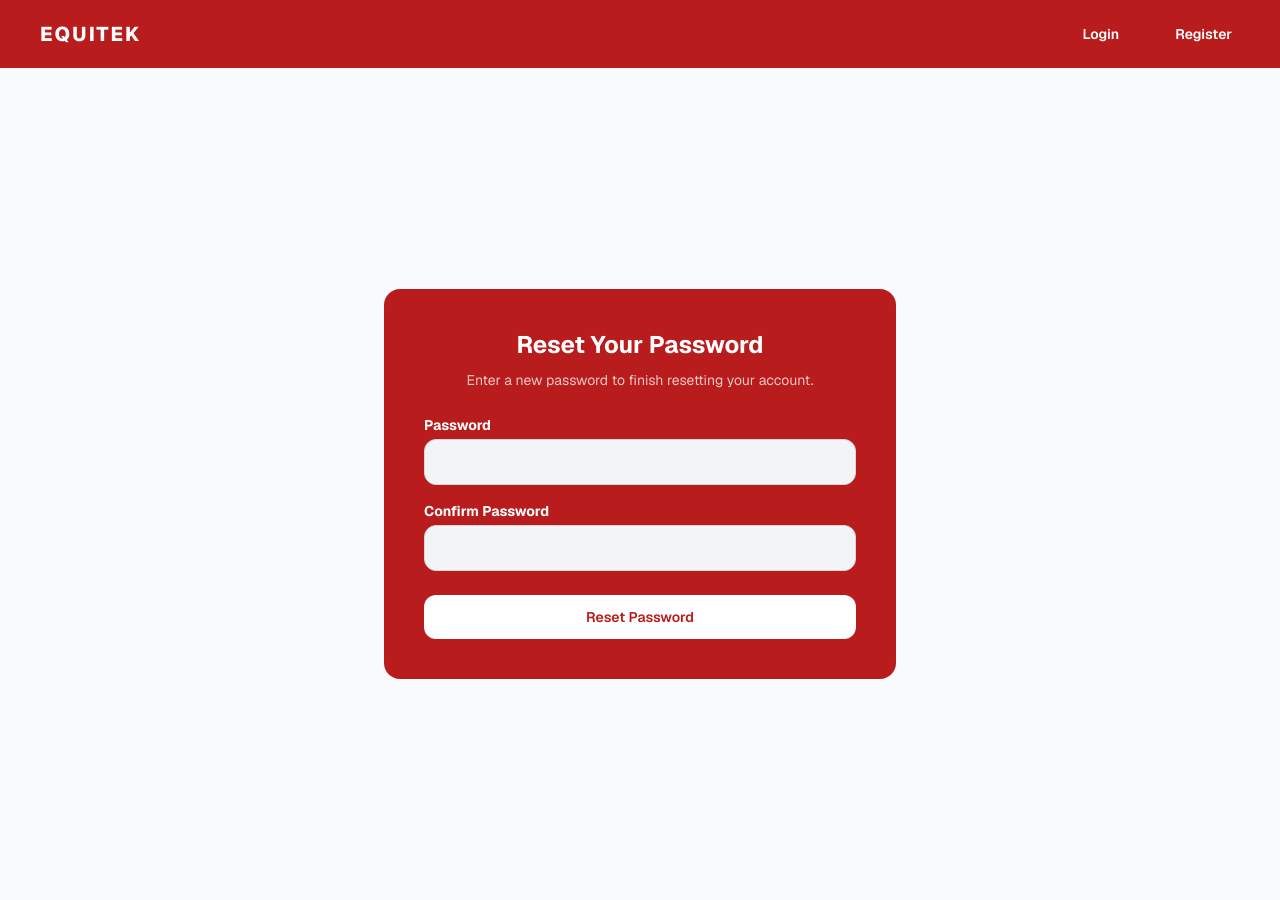
Test: Reset Password Page › shows fallback invalid token message when API error has no message
Type "Strong#123" into the password field labelled "Password" at x=640, y=462, box [424, 439, 856, 485]
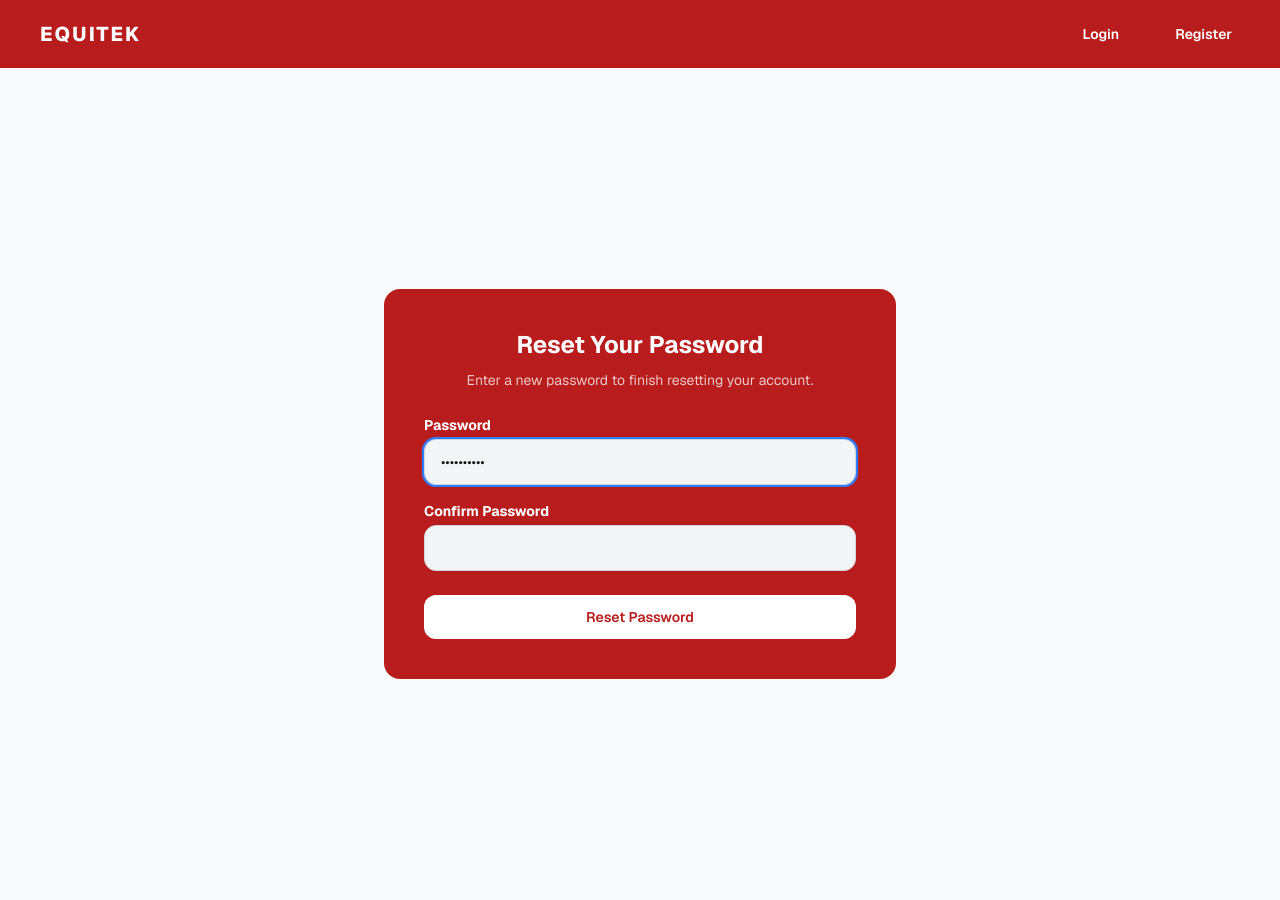
Type "Strong#123" into the password field labelled "Confirm Password" at x=640, y=548, box [424, 525, 856, 571]
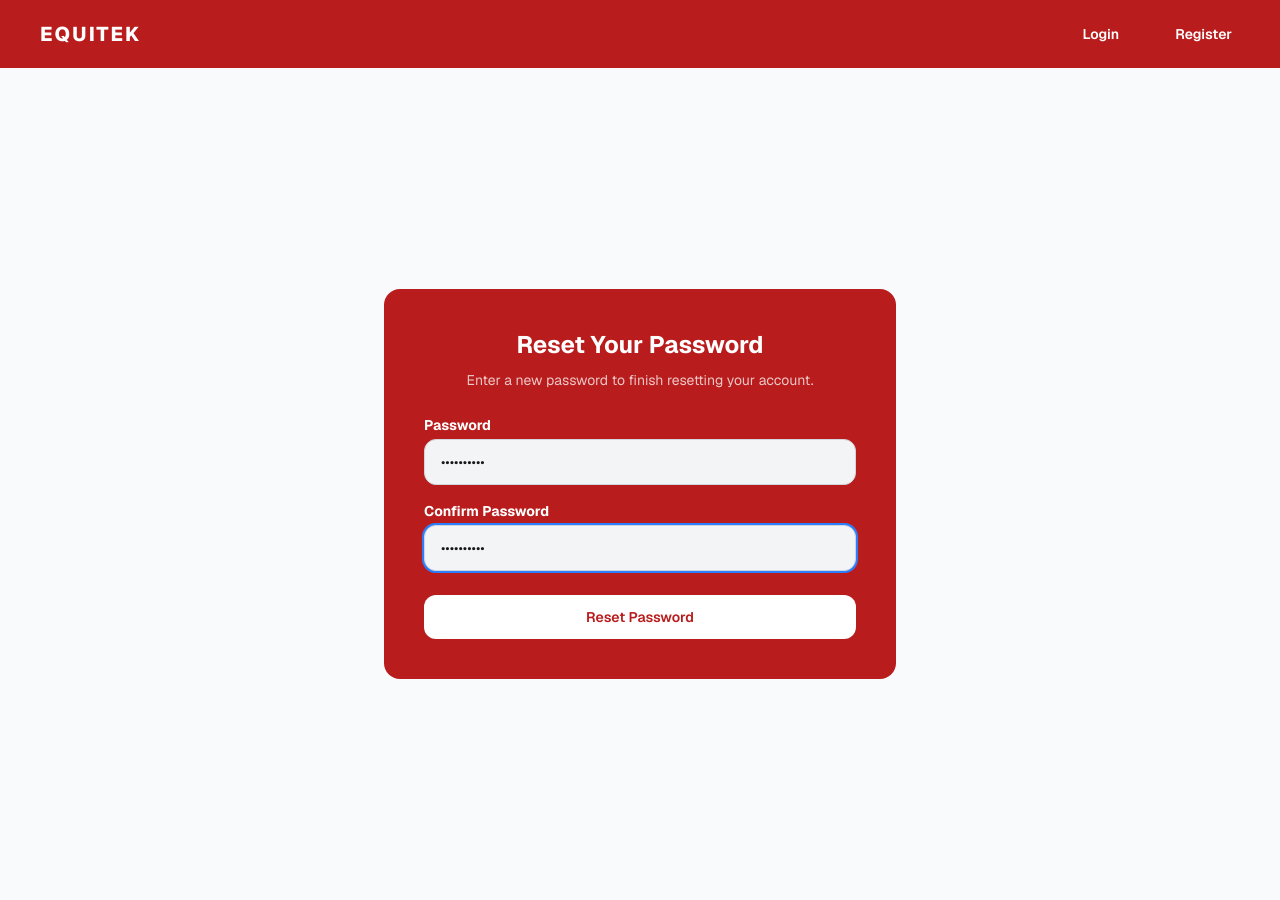
Click the button "Reset Password" at x=640, y=617, box [424, 595, 856, 639]
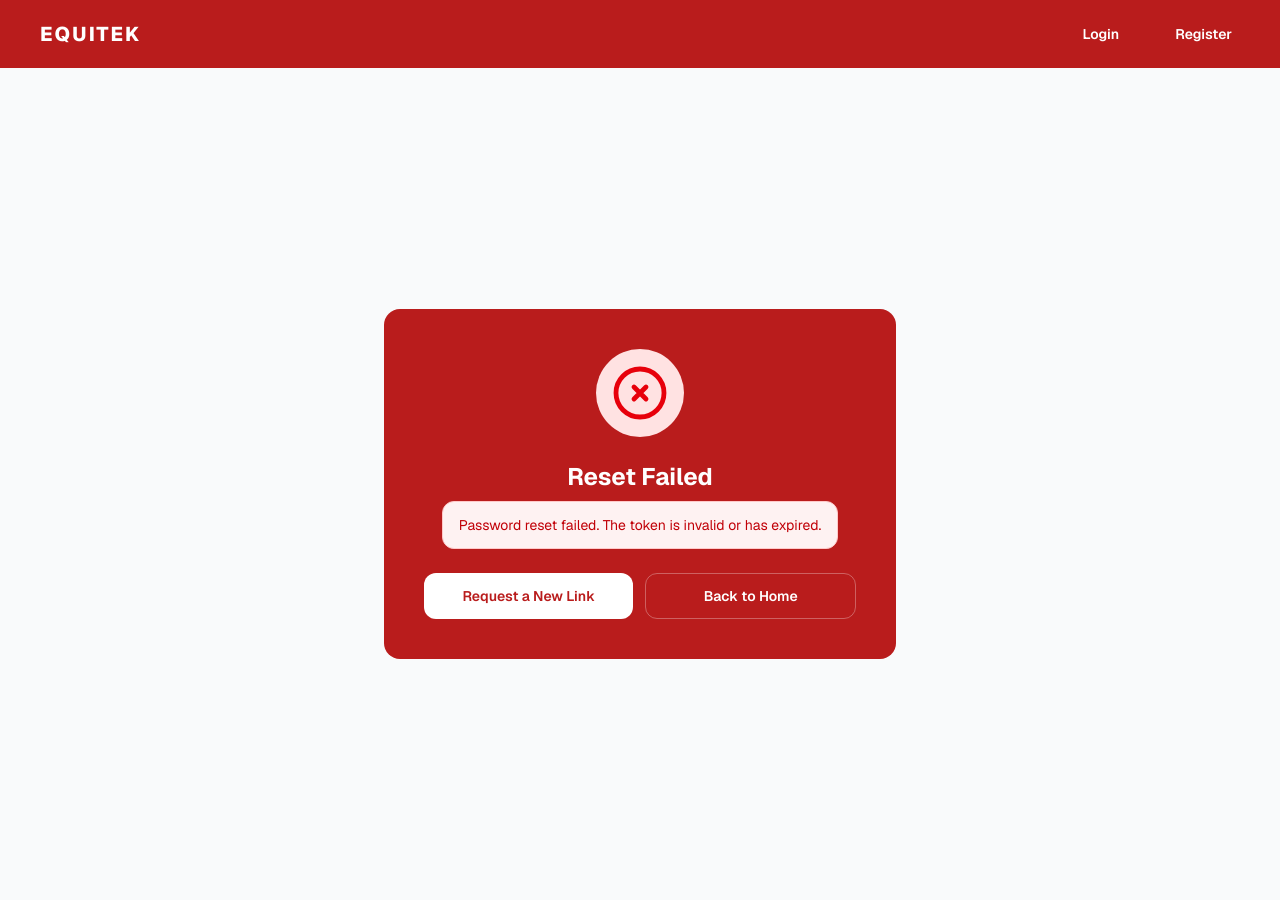
Result: the text "Password reset failed. The token is invalid or has expired." is shown at [442, 501, 838, 549]
